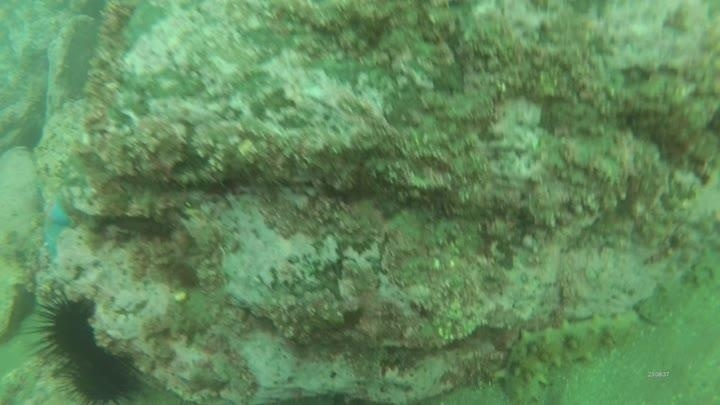echinus: (28, 290, 103, 365), (57, 343, 143, 404)
holothurian: (495, 308, 642, 403)
starfish: (34, 191, 77, 261)
